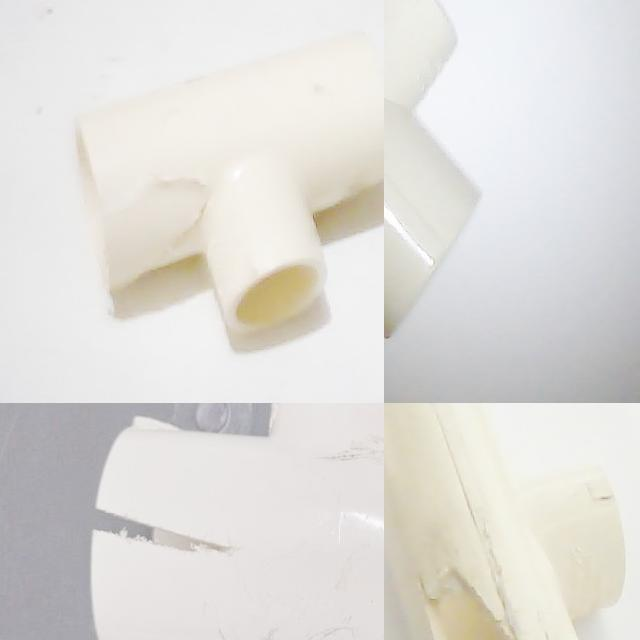Defective: (91, 157, 205, 276), (419, 566, 539, 640), (101, 514, 253, 572), (419, 568, 511, 640), (225, 603, 384, 640), (327, 431, 384, 503), (124, 406, 180, 474)
T Joint: (76, 32, 384, 335), (88, 403, 384, 640), (384, 403, 627, 640), (384, 0, 482, 341)
